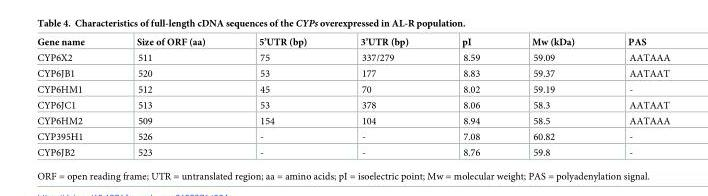table: (36, 36, 669, 157)
table column: (109, 36, 231, 157), (231, 36, 333, 157), (333, 36, 434, 157), (505, 36, 600, 157), (36, 36, 109, 157), (434, 36, 505, 157), (600, 36, 669, 157)
table column header: (36, 36, 669, 49)
table row: (36, 49, 669, 65), (36, 65, 669, 81), (36, 81, 669, 97), (36, 112, 669, 128), (36, 128, 669, 144), (36, 97, 669, 112), (36, 36, 669, 49), (36, 144, 669, 157)
